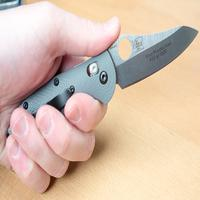knife: (14, 18, 200, 128)
